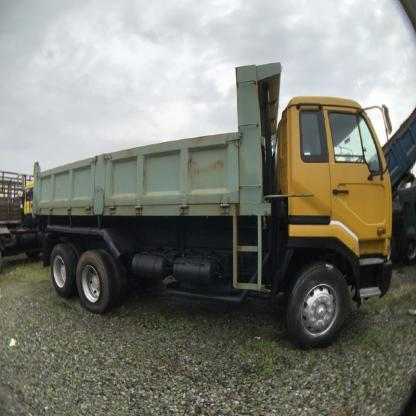dump_truck: (30, 53, 399, 353)
